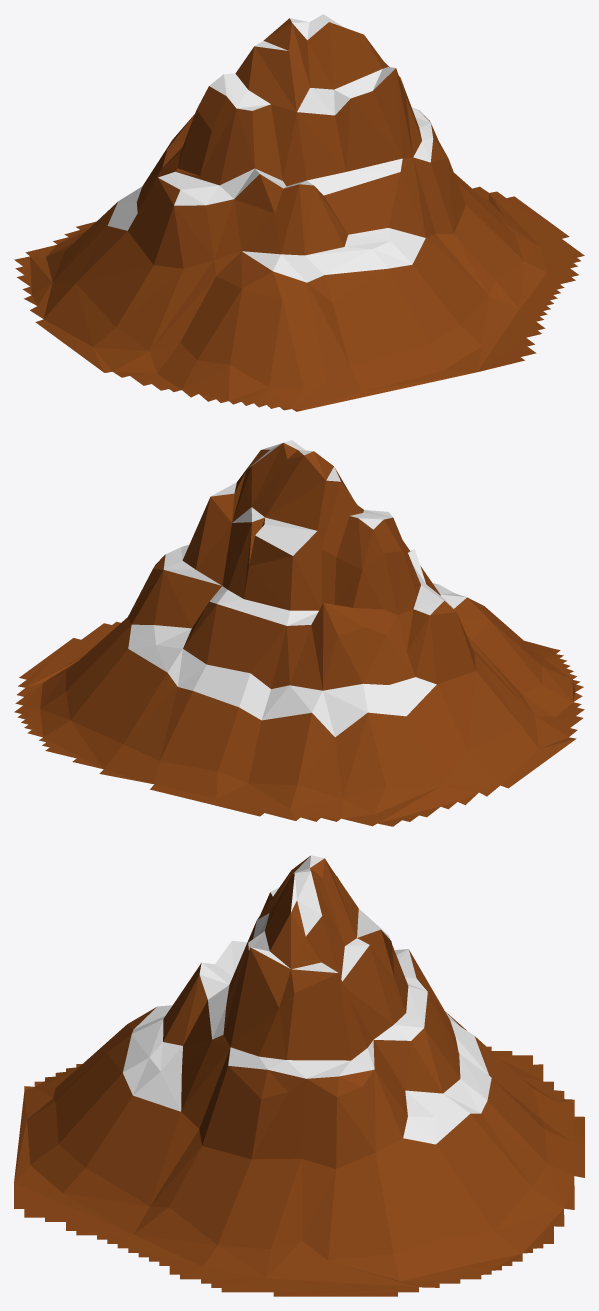
Rendered from Mountain_1_Snow_LOD_Medium.fbx.
The picture shows the model from 3 angles, top to bottom: view 1: azimuth 30°, elevation 25°; view 2: azimuth 150°, elevation 25°; view 3: azimuth 270°, elevation 25°; orthographic projection. The views are drawn at different scales.
Visible parts, largest first — view 1: Mountain_1_Snow_LOD_Medium; view 2: Mountain_1_Snow_LOD_Medium; view 3: Mountain_1_Snow_LOD_Medium.
Part boxes in pixels (bbox=[...]): Mountain_1_Snow_LOD_Medium: bbox=[14, 14, 584, 411]; Mountain_1_Snow_LOD_Medium: bbox=[14, 440, 584, 826]; Mountain_1_Snow_LOD_Medium: bbox=[14, 855, 584, 1296].
Bounding box in the file's own units: 10724 × 5616 × 9669.
